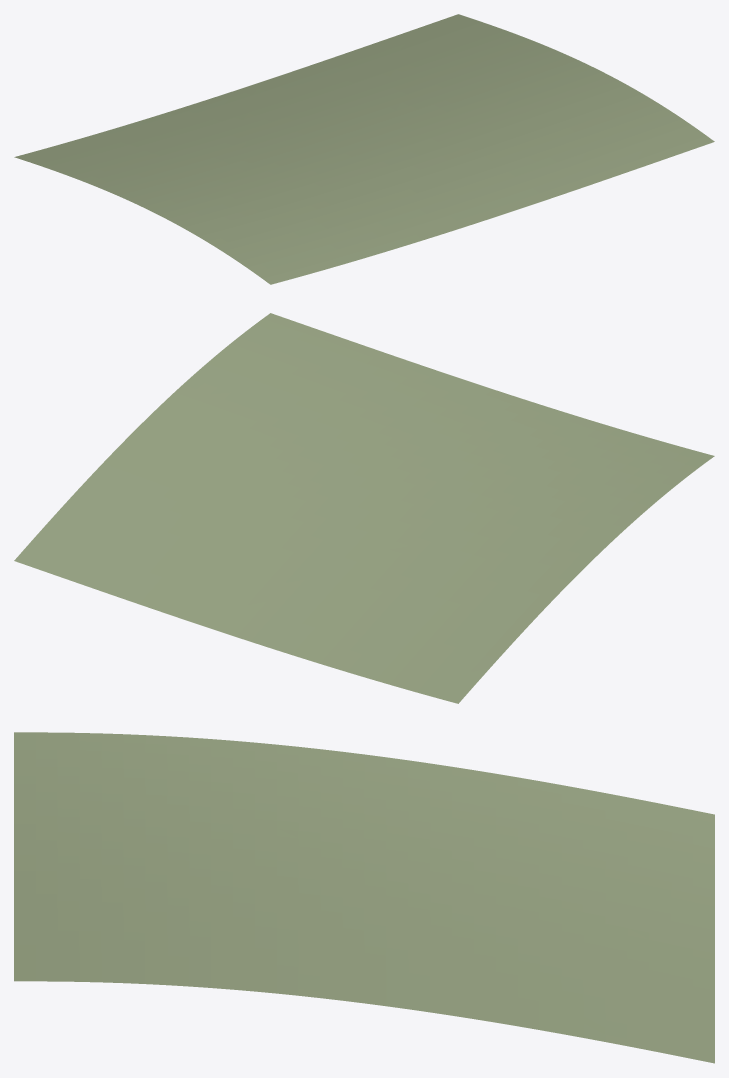
Rendered from valley-9-0.glb.
3 renders of one model, top to bottom at view 1: azimuth 30°, elevation 25°; view 2: azimuth 150°, elevation 25°; view 3: azimuth 270°, elevation 25°, orthographic. The views are drawn at different scales.
Parts seen in each view (by area): view 1: valley-9-0; view 2: valley-9-0; view 3: valley-9-0.
Part boxes in pixels (bbox=[...]): valley-9-0: bbox=[14, 14, 714, 284]; valley-9-0: bbox=[14, 313, 714, 703]; valley-9-0: bbox=[14, 732, 714, 1063].
Bounding box in the file's own units: 256 × 52.15 × 256.
